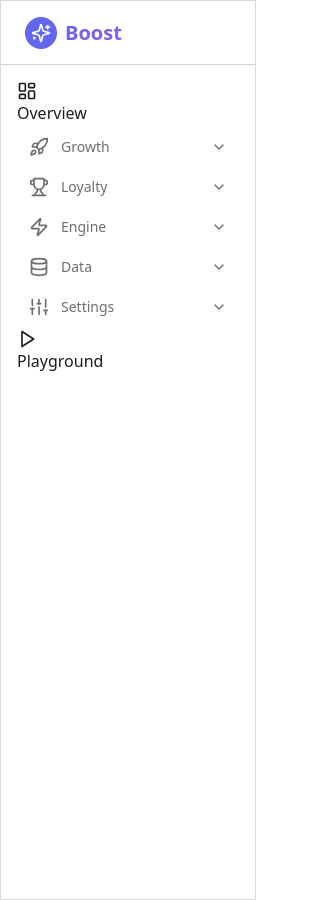
Sidebar › expands Engine group to show Automations and Rewards
Note: Click on Engine to expand
Click the button "Engine".
click(128, 227)  # box [17,209,239,245]
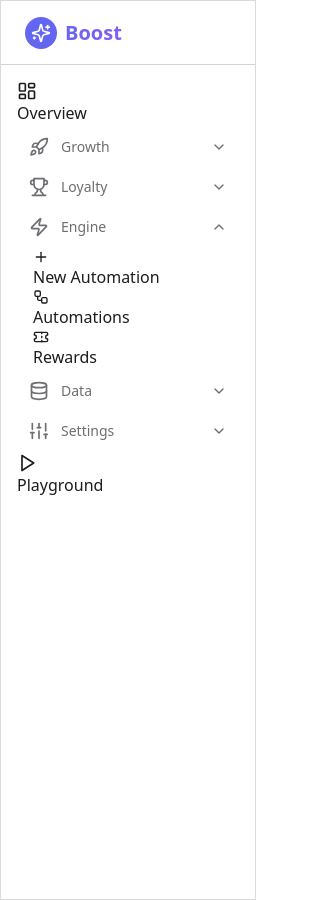
Expected: the link "Automations" is shown, [33,289,130,328]
Expected: the link "Rewards" is shown, [33,329,97,368]
